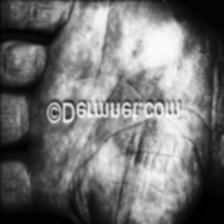Non-Cancerous Skin Condition: (57, 19, 206, 84), (84, 128, 162, 224), (182, 42, 224, 184), (13, 0, 51, 25)
